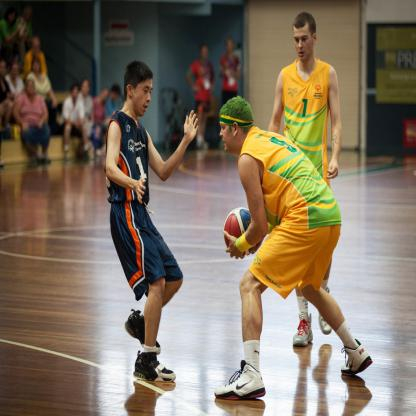Ball: (224, 206, 258, 256)
